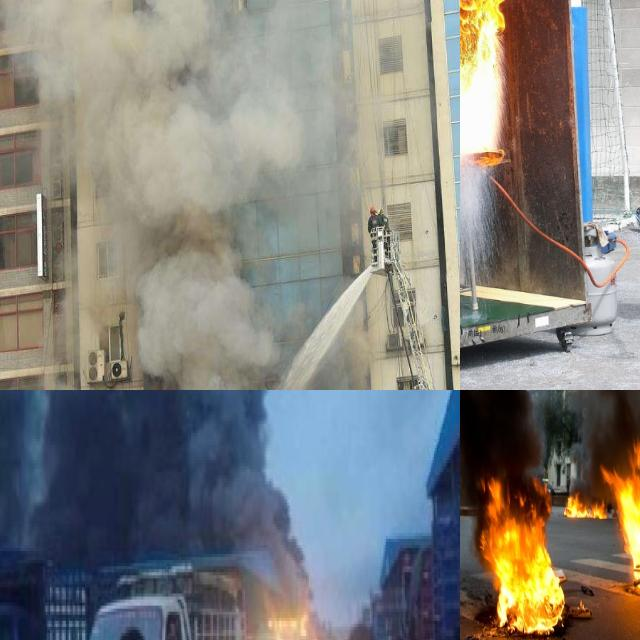fire: (460, 0, 584, 185), (477, 473, 569, 635), (602, 437, 640, 600), (563, 490, 609, 524)
smoke: (0, 0, 303, 390), (0, 390, 290, 560), (460, 390, 555, 507), (338, 309, 368, 380)
